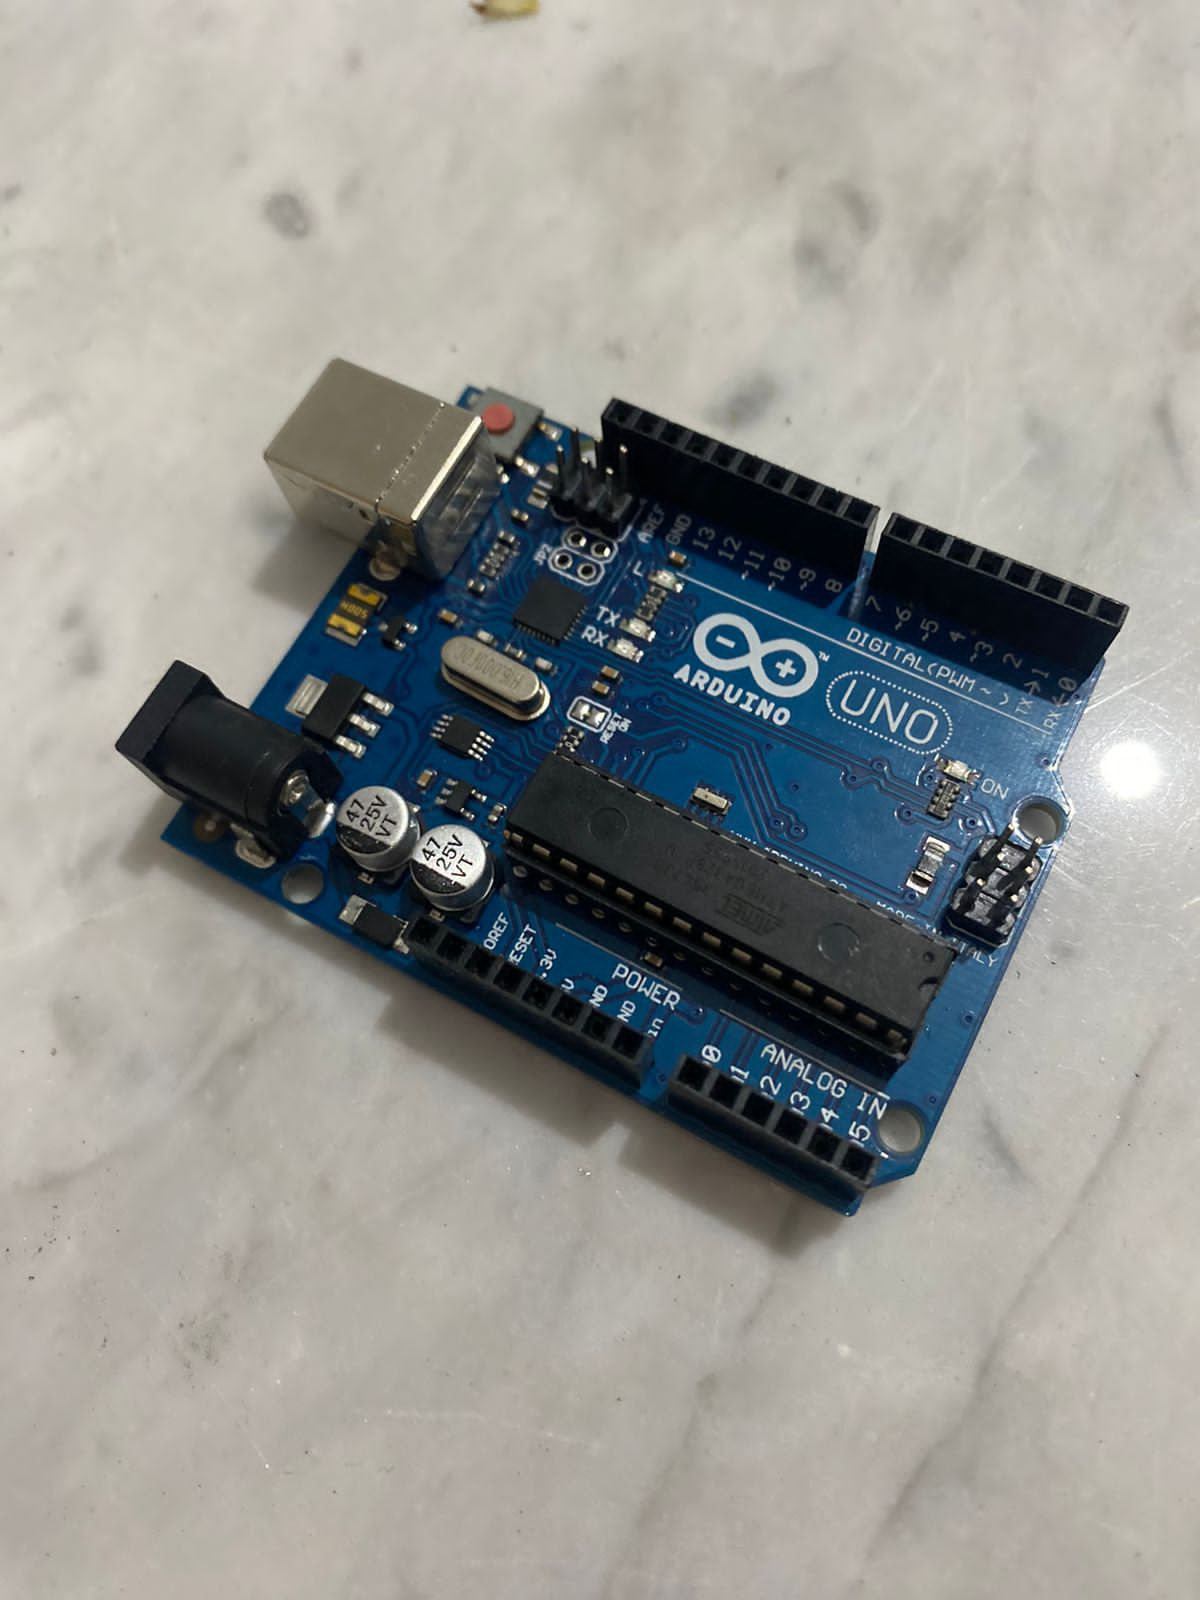arduino-uno: (110, 363, 1136, 1225)
